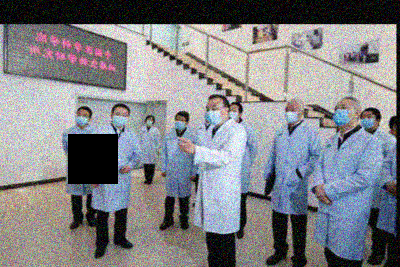with_mask: (332, 103, 351, 127), (203, 104, 221, 127), (359, 113, 377, 131), (283, 105, 299, 125), (110, 111, 127, 128), (172, 117, 186, 132), (74, 112, 88, 127), (226, 107, 238, 123), (144, 117, 152, 128)
